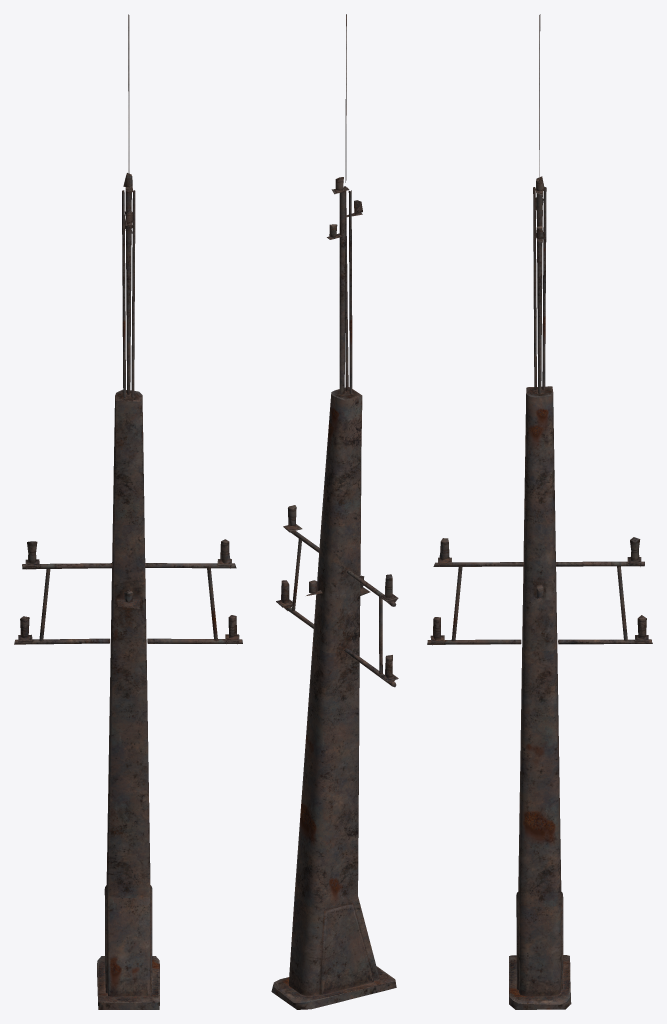
File: SM_Antenna_02.fbx
The picture shows the model from 3 angles, left to right: view 1: azimuth 90°, elevation 25°; view 2: azimuth 210°, elevation 25°; view 3: azimuth 270°, elevation 25°; orthographic projection.
Visible parts, largest first — view 1: SM_Antenna_02_LOD0; view 2: SM_Antenna_02_LOD0; view 3: SM_Antenna_02_LOD0.
Part boxes in pixels (x1=…): SM_Antenna_02_LOD0: x1=14, y1=14, x2=242, y2=1009; SM_Antenna_02_LOD0: x1=271, y1=14, x2=398, y2=1009; SM_Antenna_02_LOD0: x1=427, y1=14, x2=652, y2=1009.
Bounding box in the file's own units: 121 × 243 × 1144.
1 material, 1 textured.
